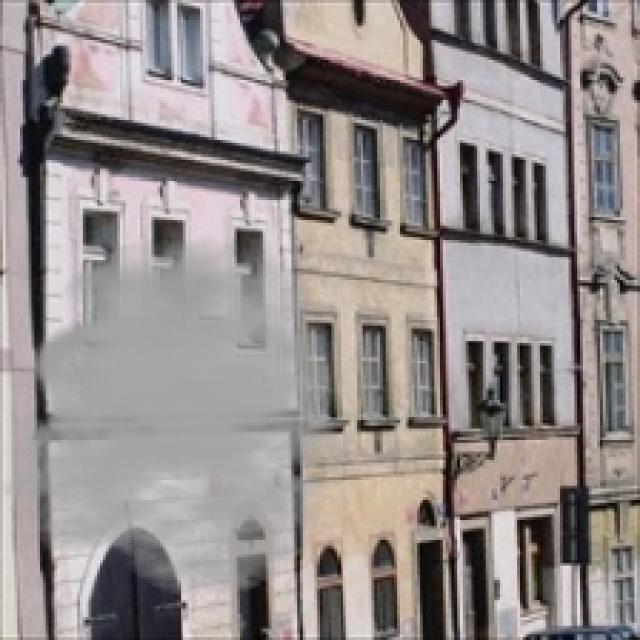smoke: (0, 237, 377, 597)
